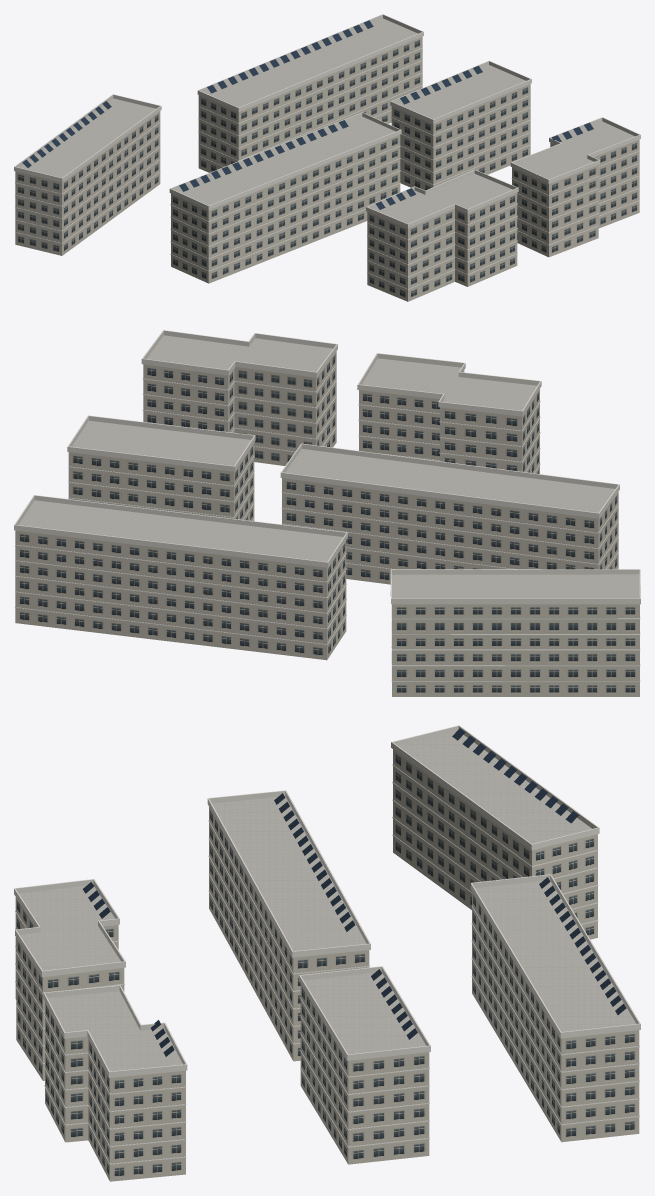
The model's file is dorm_dongyuan_g1.glb.
The picture shows the model from 3 angles, top to bottom: view 1: azimuth 30°, elevation 25°; view 2: azimuth 150°, elevation 25°; view 3: azimuth 270°, elevation 25°; orthographic projection. The views are drawn at different scales.
Visible parts, largest first — view 1: 1425305062, 1425305064, 1425305061, 1425504865, 1425305063, 1425504864; view 2: 1425305064, 1425305062, 1425305061, 1425504864, 1425504865, 1425305063; view 3: 1425305064, 1425305061, 1425305062, 1425504864, 1425305063, 1425504865.
Part boxes in pixels (x1,y1,x2,y2): 1425305062: [169, 112, 401, 283]; 1425305064: [197, 14, 423, 172]; 1425305061: [14, 94, 161, 255]; 1425504865: [366, 169, 518, 301]; 1425305063: [390, 60, 531, 190]; 1425504864: [510, 117, 640, 257]; 1425305064: [14, 495, 347, 660]; 1425305062: [280, 443, 619, 584]; 1425305061: [390, 569, 640, 696]; 1425504864: [141, 330, 337, 465]; 1425504865: [357, 353, 541, 473]; 1425305063: [67, 415, 255, 521]; 1425305064: [470, 874, 640, 1142]; 1425305061: [391, 725, 599, 939]; 1425305062: [207, 790, 370, 1061]; 1425504864: [43, 985, 187, 1181]; 1425305063: [299, 966, 430, 1164]; 1425504865: [14, 879, 125, 1080].
Size of the model in its own units: 128 by 19.4 by 97.44.
Materials: 4 (2 with a texture image).
